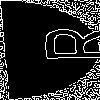R: (25, 25, 100, 63)
